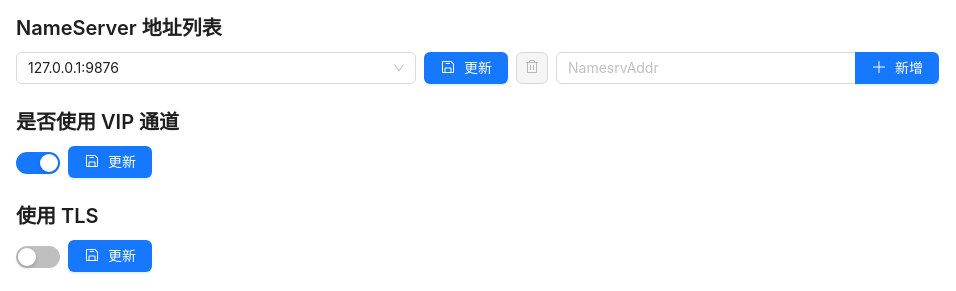
OpsPage › prevents overlapping VIP channel updates
The width and height of the screenshot is (956, 291).
Click the switch below "是否使用 VIP 通道" at (38, 163), box [16, 152, 60, 174]
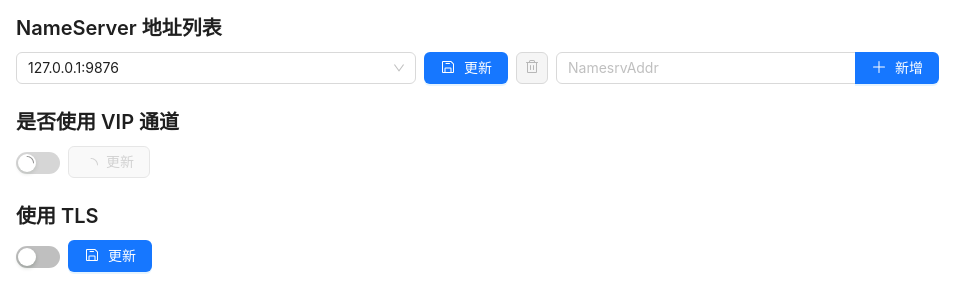
Expected: the switch below "是否使用 VIP 通道" is disabled
Click the switch below "是否使用 VIP 通道" at (38, 163), box [16, 152, 60, 174]
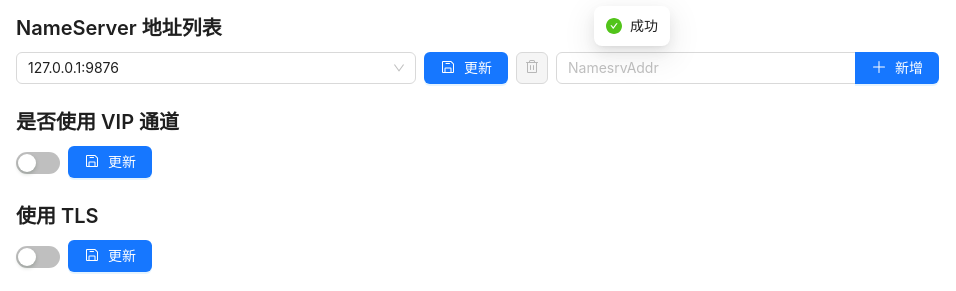
Expected: the switch below "是否使用 VIP 通道" is enabled, [16, 152, 60, 174]
